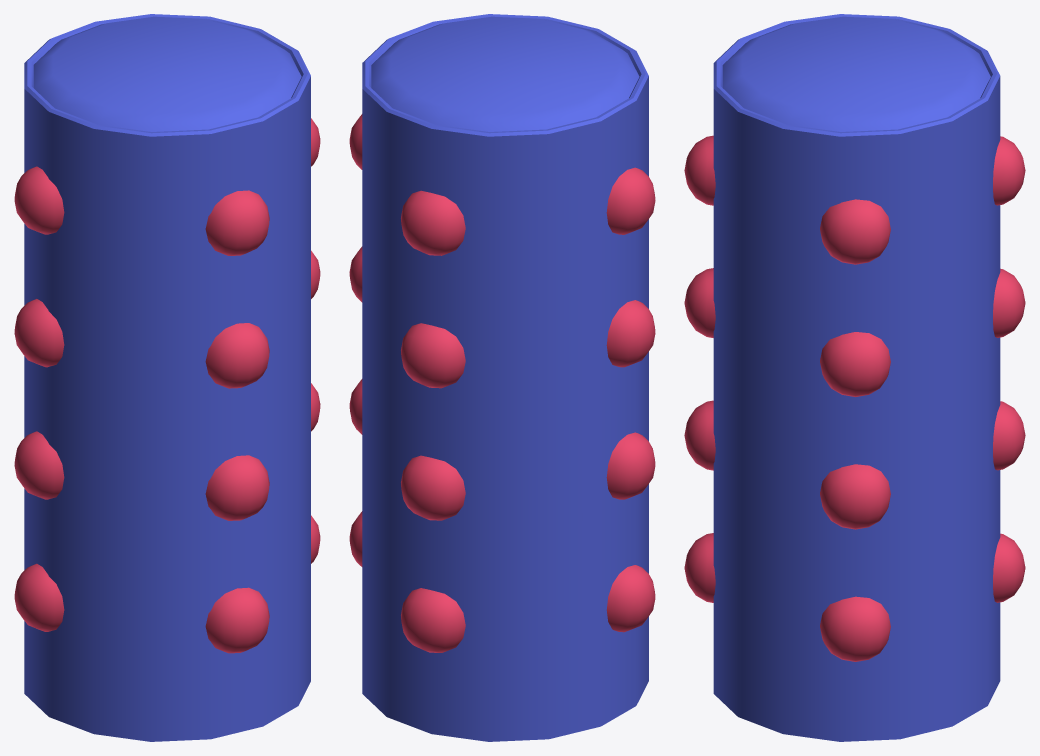
File: Tru Xoay.fbx
The picture shows the model from 3 angles, left to right: view 1: azimuth 30°, elevation 25°; view 2: azimuth 150°, elevation 25°; view 3: azimuth 270°, elevation 25°; orthographic projection.
Visible parts, largest first — view 1: Tru Xoay; view 2: Tru Xoay; view 3: Tru Xoay.
Part boxes in pixels (bbox=[...]): Tru Xoay: bbox=[14, 14, 320, 741]; Tru Xoay: bbox=[349, 14, 655, 741]; Tru Xoay: bbox=[684, 14, 1025, 741].
Size of the model in its own units: 83.72 by 166 by 83.54.
